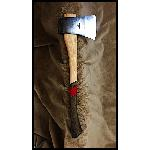Kapak: (49, 4, 100, 142)
